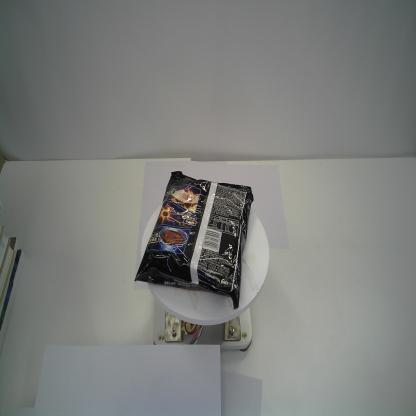Instant Noodles: (133, 169, 256, 313)
